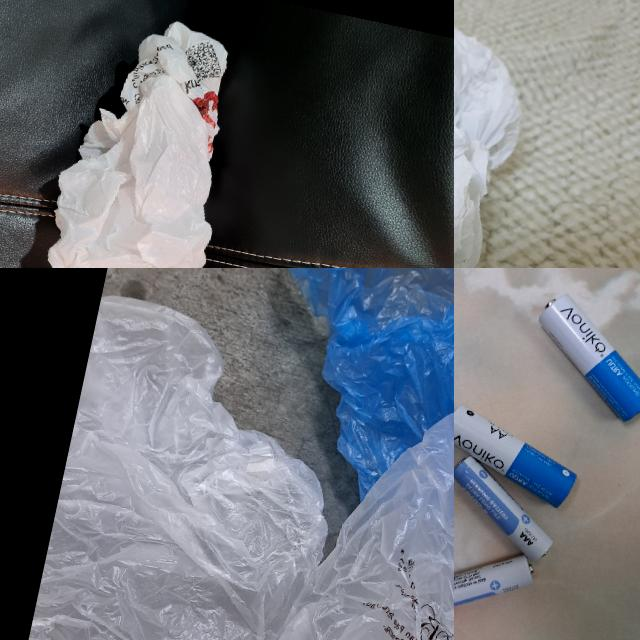bateria: (520, 289, 640, 428), (454, 401, 586, 509), (454, 453, 567, 566), (454, 532, 538, 638)
sacola plástica: (3, 291, 366, 640), (194, 363, 454, 640), (214, 268, 454, 547), (454, 0, 560, 268), (0, 205, 323, 268)
